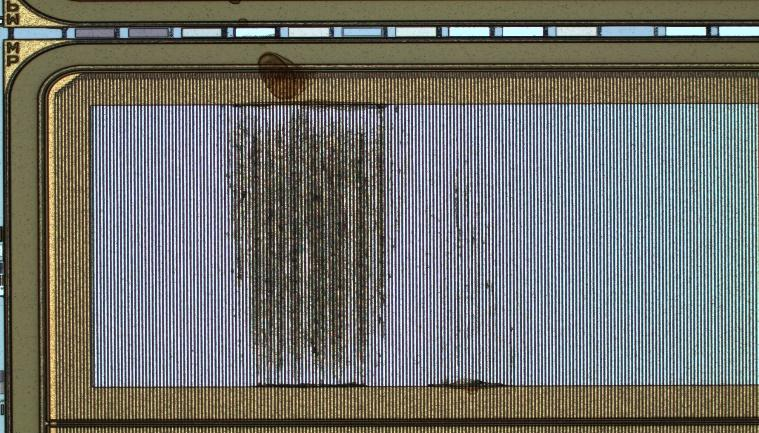SEZ BURNT: (227, 52, 525, 395)
